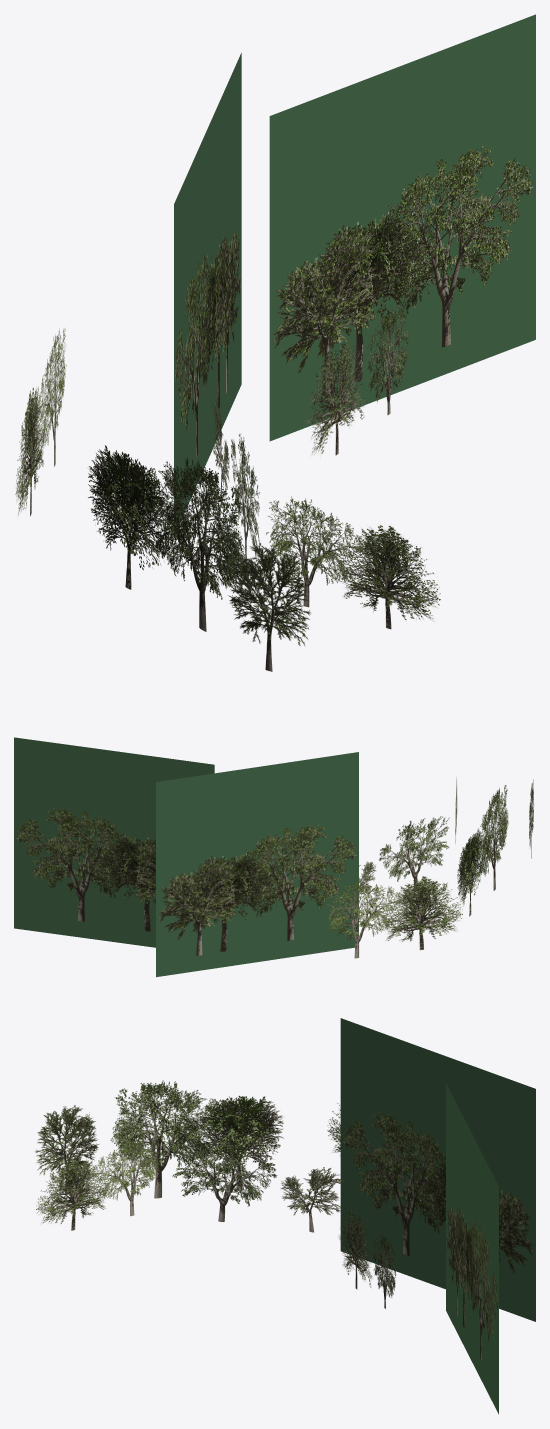
Rendered from arboles_back.glb.
3 views of the same model, one above another, from view 1: azimuth 30°, elevation 25°; view 2: azimuth 150°, elevation 25°; view 3: azimuth 270°, elevation 25° (orthographic). The views are drawn at different scales.
Visible parts, largest first — view 1: agr03, abgr03, abgr01, agr00, agr02, abgr00, abgr02, agr01; view 2: abgr03, agr03, abgr02, abgr01, agr01; view 3: abgr03, agr03, abgr01, agr01, agr00, abgr00, agr02.
Part boxes in pixels (left/top/right/bottom): agr03: left=269, top=14, right=535, bottom=441; abgr03: left=174, top=52, right=241, bottom=527; abgr01: left=88, top=445, right=245, bottom=631; agr00: left=266, top=496, right=440, bottom=629; agr02: left=304, top=307, right=408, bottom=455; abgr00: left=228, top=542, right=310, bottom=671; abgr02: left=15, top=328, right=66, bottom=516; agr01: left=212, top=399, right=259, bottom=564; abgr03: left=156, top=752, right=358, bottom=977; agr03: left=14, top=737, right=214, bottom=947; abgr02: left=325, top=876, right=462, bottom=958; abgr01: left=457, top=785, right=508, bottom=916; agr01: left=359, top=816, right=449, bottom=894; abgr03: left=340, top=1018, right=535, bottom=1321; agr03: left=446, top=1083, right=498, bottom=1414; abgr01: left=110, top=1080, right=283, bottom=1198; agr01: left=171, top=1136, right=344, bottom=1232; agr00: left=36, top=1139, right=161, bottom=1230; abgr00: left=35, top=1105, right=99, bottom=1194; agr02: left=339, top=1209, right=395, bottom=1308.
Size of the model in its own units: 64.08 by 34.76 by 63.78.
Materials: 6 (6 with a texture image).
